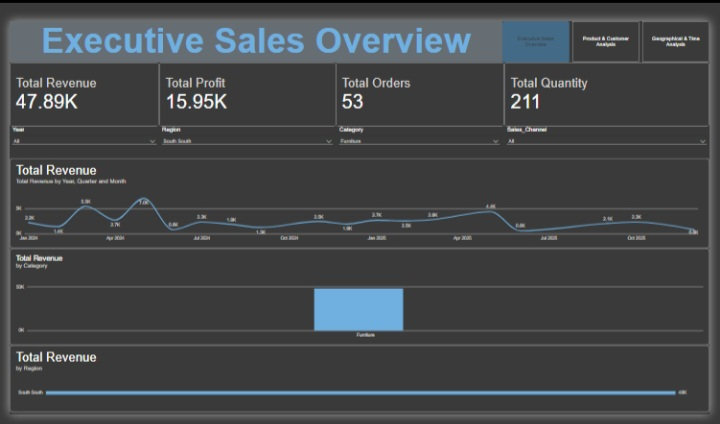

This screenshot's page, from the dashboard's own definition file:
{"tool":"powerbi","page":{"name":"Executive Sales Overview","canvas":[1920,1080],"ordinal":0},"visuals":[{"type":"cardVisual","fields":{"Data":["Sales_Data.Total Revenue"]},"box":[0,113.2,410.5,176.3],"z":0},{"type":"cardVisual","fields":{"Data":["Sales_Data.Total Orders"]},"box":[894.7,113.2,463.2,176.3],"z":1000},{"type":"cardVisual","fields":{"Data":["Sales_Data.Total Quantity"]},"box":[1357.9,113.2,563.2,176.3],"z":2000},{"type":"cardVisual","fields":{"Data":["Sales_Data.Total Profit"]},"box":[410.5,113.2,486.8,176.3],"z":3000},{"type":"lineChart","title":"Total Revenue","fields":{"Y":["Sales_Data.Total Revenue"],"Category":["Dim Calendar.Date.Variation.Date Hierarchy.Year","Dim Calendar.Date.Variation.Date Hierarchy.Quarter","Dim Calendar.Date.Variation.Date Hierarchy.Month","Dim Calendar.Date.Variation.Date Hierarchy.Day"]},"box":[0,376.3,1921.1,247.4],"z":4000},{"type":"clusteredColumnChart","fields":{"Category":["Sales_Data.Category"],"Y":["Sales_Data.Total Revenue"]},"box":[0,623.7,1921.1,265.8],"z":5000},{"type":"barChart","fields":{"Category":["Sales_Data.Region"],"Y":["Sales_Data.Total Revenue"]},"box":[0,889.5,1921.1,184.2],"z":6000},{"type":"textbox","box":[0,0,1352.6,113.2],"z":7000},{"type":"slicer","fields":{"Values":["Sales_Data.Year"]},"box":[0,289.5,410.5,86.8],"z":8001},{"type":"slicer","fields":{"Values":["Sales_Data.Region"]},"box":[410.5,289.5,484.2,86.8],"z":8002},{"type":"slicer","fields":{"Values":["Sales_Data.Category"]},"box":[897.4,289.5,455.3,86.8],"z":8003},{"type":"slicer","fields":{"Values":["Sales_Data.Sales_Channel"]},"box":[1357.9,289.5,563.2,86.8],"z":8004},{"type":"pageNavigator","box":[1352.6,0,568.4,113.2],"z":8005}]}

Visuals, with their boxes on the page's 1920x1080 design canvas (x1, y1, x2, y2). These are canvas units, not pixel positions in the 720x424 screenshot, which may show the page scaled, cropped or inside an application window:
cardVisual - Sales_Data.Total Revenue: box(0, 113, 410, 290)
cardVisual - Sales_Data.Total Orders: box(895, 113, 1358, 290)
cardVisual - Sales_Data.Total Quantity: box(1358, 113, 1921, 290)
cardVisual - Sales_Data.Total Profit: box(410, 113, 897, 290)
"Total Revenue" lineChart: box(0, 376, 1921, 624)
clusteredColumnChart - Sales_Data.Category x Sales_Data.Total Revenue: box(0, 624, 1921, 890)
barChart - Sales_Data.Region x Sales_Data.Total Revenue: box(0, 890, 1921, 1074)
textbox: box(0, 0, 1353, 113)
slicer - Sales_Data.Year: box(0, 290, 410, 376)
slicer - Sales_Data.Region: box(410, 290, 895, 376)
slicer - Sales_Data.Category: box(897, 290, 1353, 376)
slicer - Sales_Data.Sales_Channel: box(1358, 290, 1921, 376)
pageNavigator: box(1353, 0, 1921, 113)
